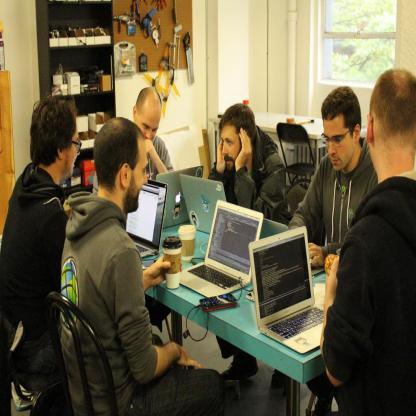board: (248, 222, 334, 354), (180, 201, 264, 298), (127, 180, 168, 258), (156, 167, 204, 229), (181, 175, 227, 236), (260, 219, 289, 240)
